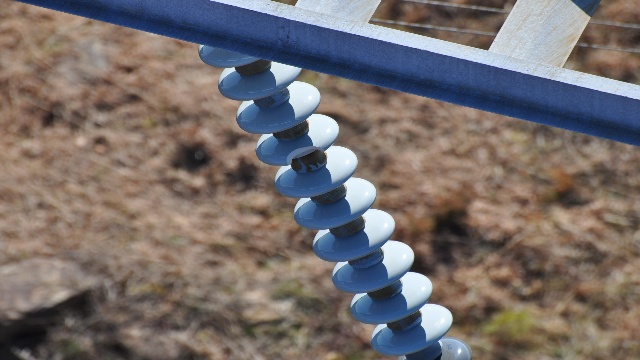broken_local: (283, 143, 326, 167)
insulator_unspecified: (197, 39, 473, 359)
